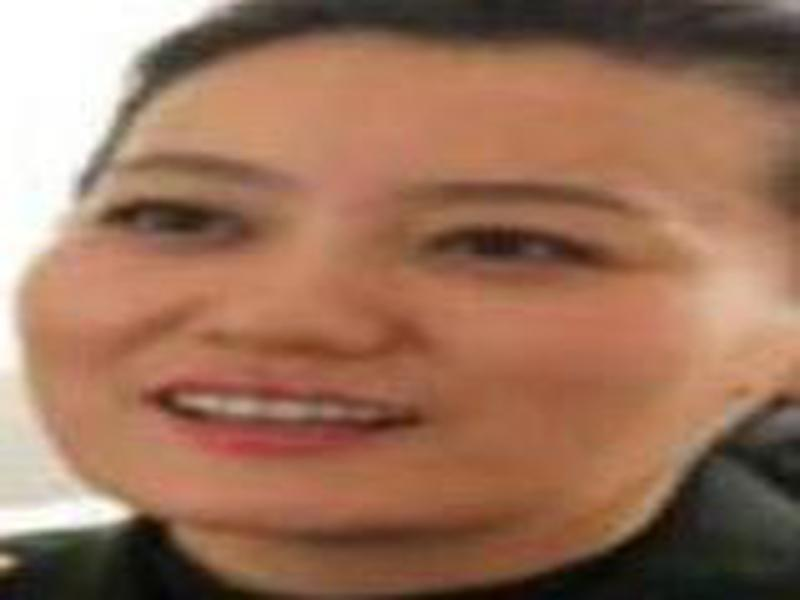without_mask: (17, 65, 780, 536)
